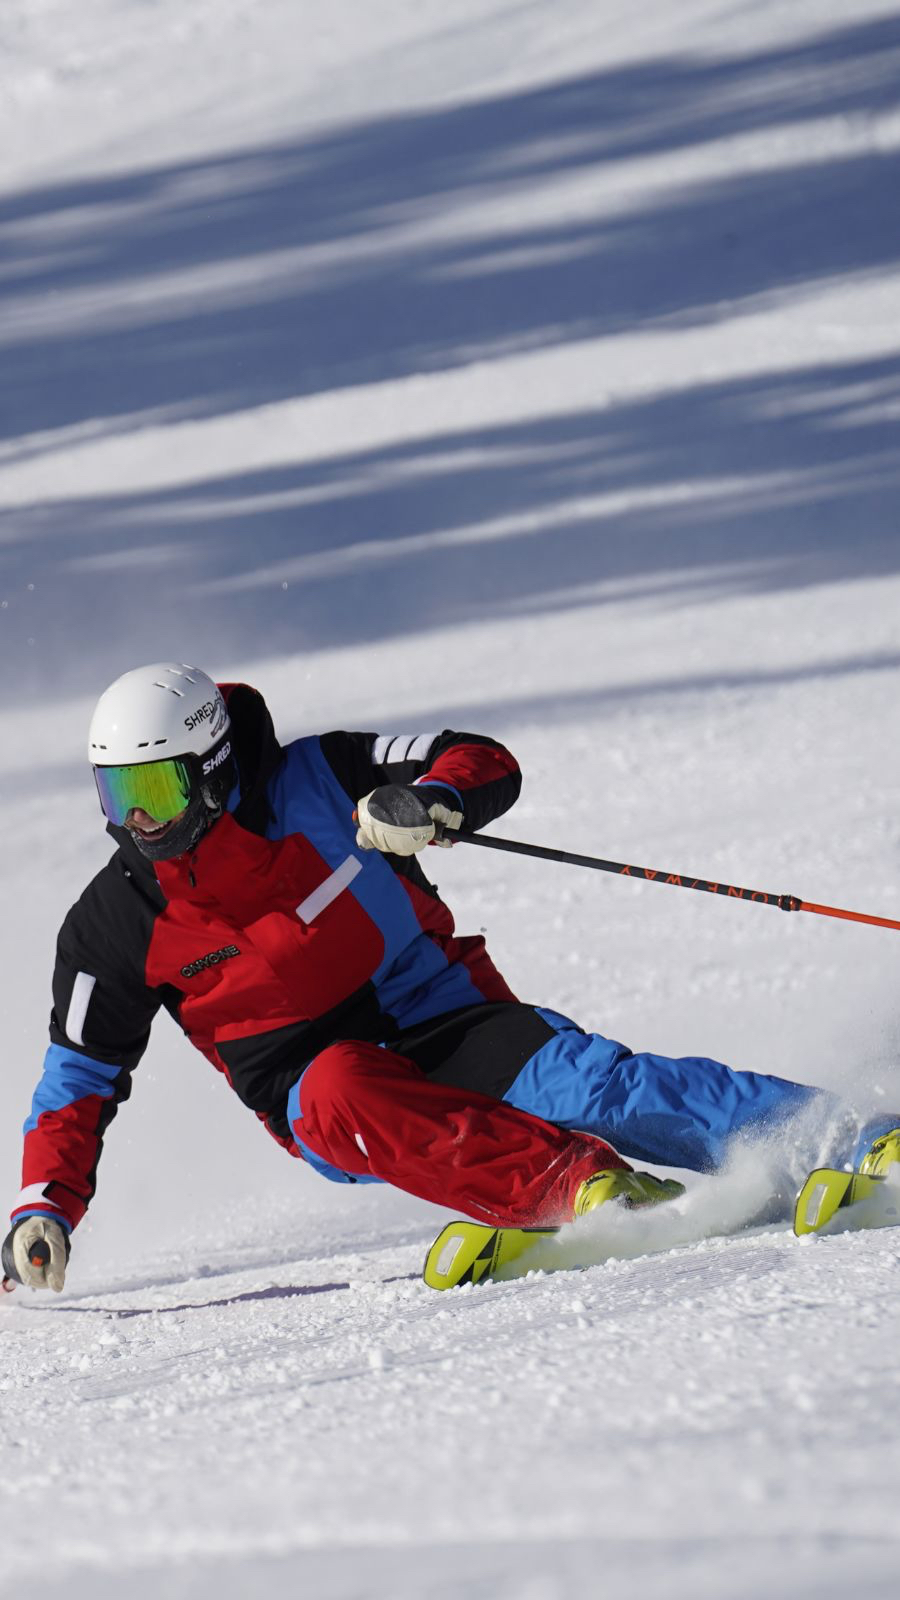skier: (0, 657, 893, 1311)
